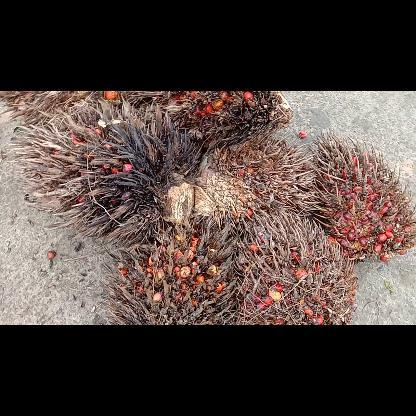Terlalu masak: (5, 94, 213, 246), (101, 220, 237, 324), (234, 210, 358, 324), (310, 129, 416, 261), (200, 132, 320, 224), (153, 90, 293, 148)
